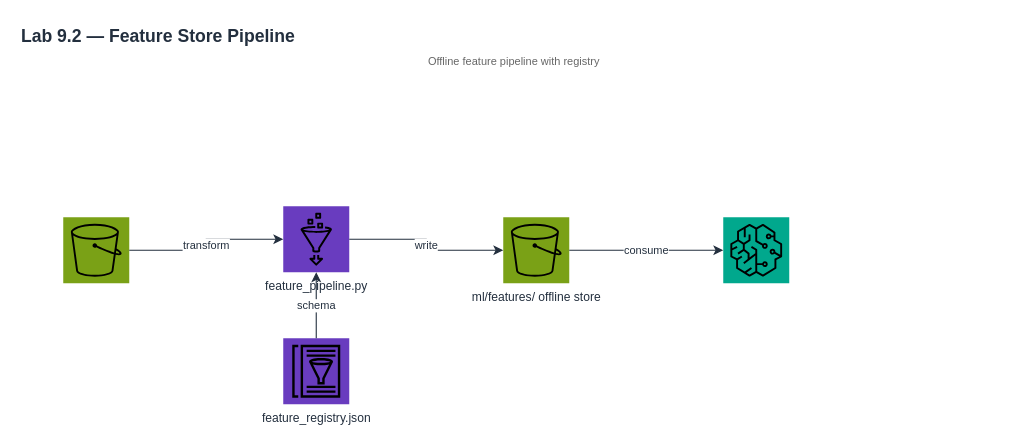
This 1027x444 diagram has some shape labels left out. Each missing label, with the centre of its shape:
curated data: point (96, 250)
ML Training: point (756, 250)
